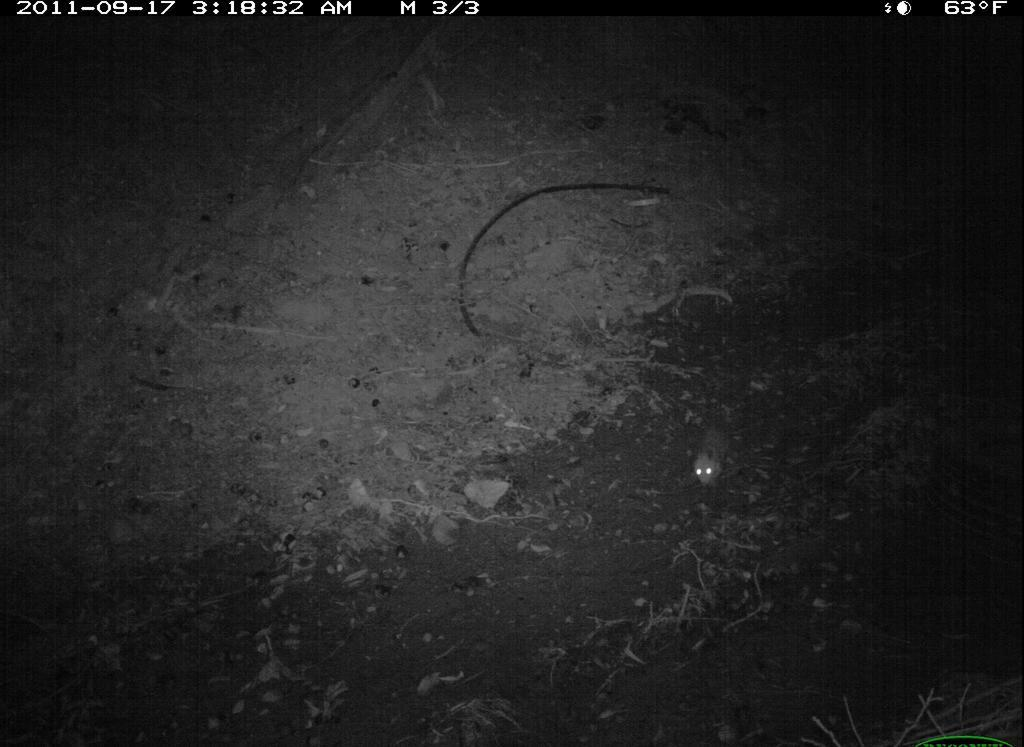opossum: (681, 396, 771, 511)
